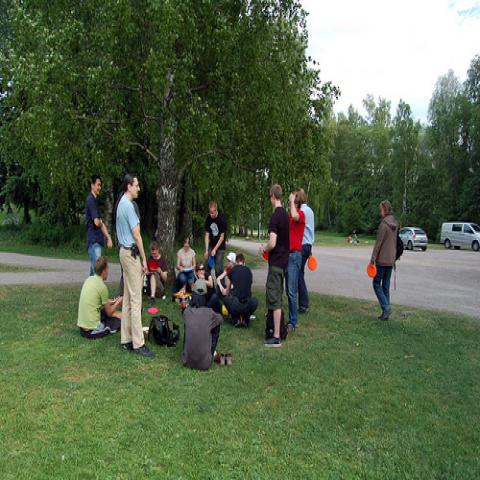car: (440, 221, 479, 253), (399, 227, 428, 252)
